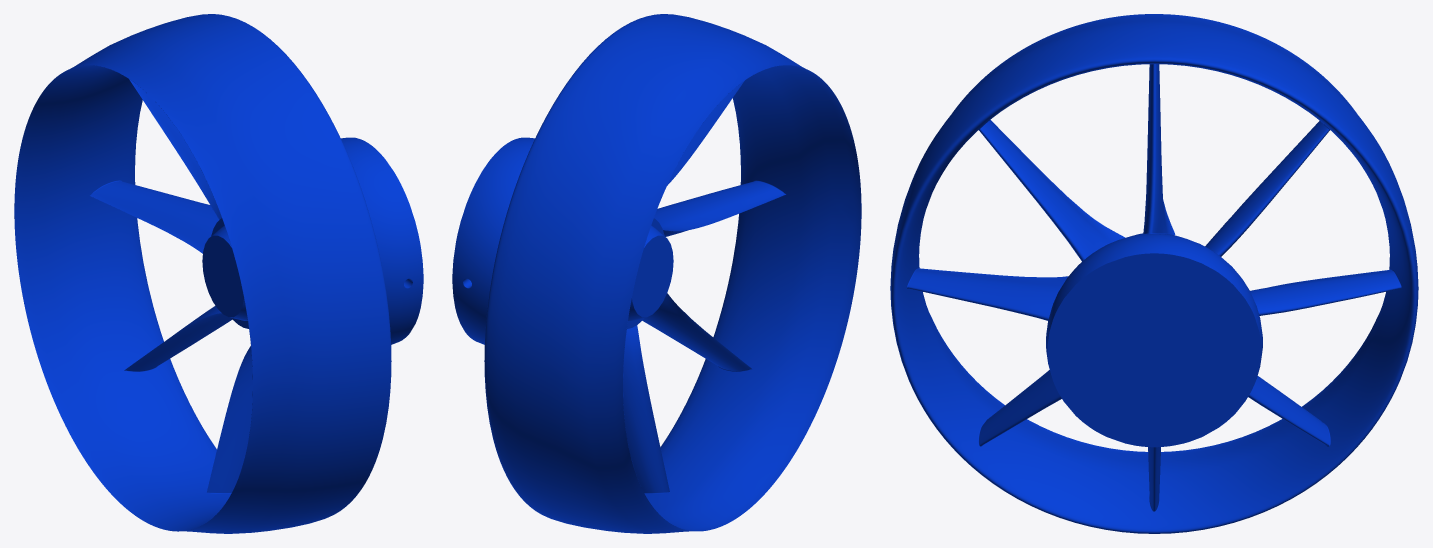
Rendered from TAILCONE2.gltf.
3 renders of one model, left to right at view 1: azimuth 30°, elevation 25°; view 2: azimuth 150°, elevation 25°; view 3: azimuth 270°, elevation 25°, orthographic.
Visible parts, largest first — view 1: TAILCONE2; view 2: TAILCONE2; view 3: TAILCONE2.
Boxes of the visible parts, x1,y1,x2,y2 form: TAILCONE2: (14,14,423,533); TAILCONE2: (452,14,861,533); TAILCONE2: (890,14,1418,533).
Bounding box in the file's own units: 0.2273 × 0.4325 × 0.4326.
